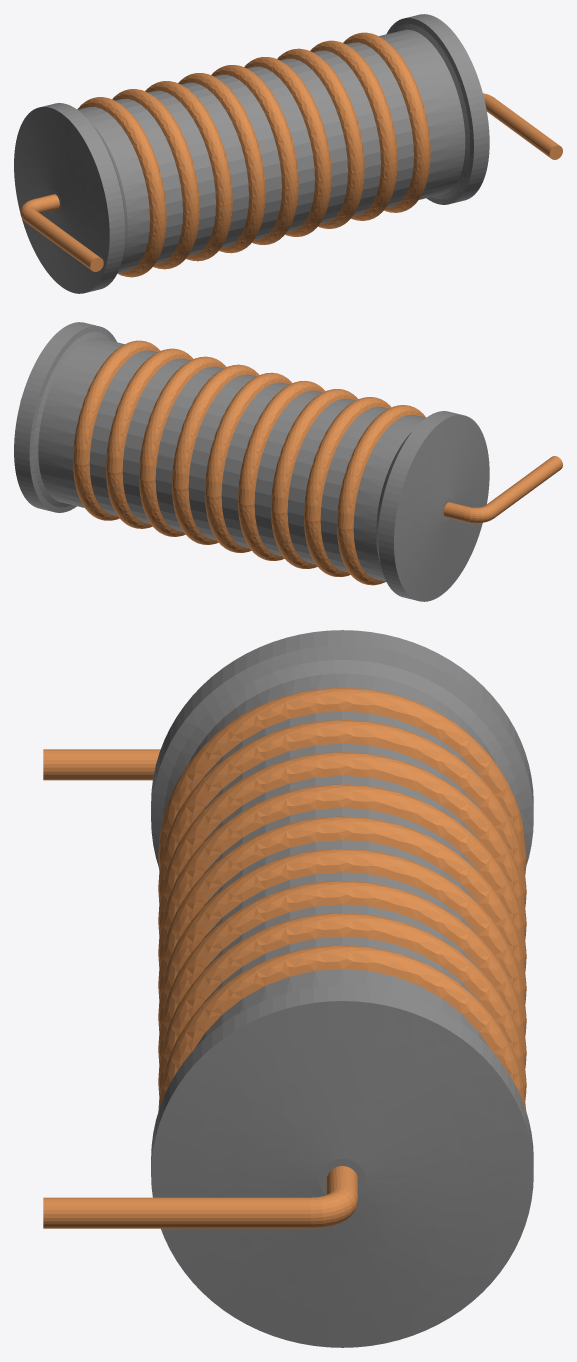
The model's file is L_Axial_L26.0mm_D11.0mm_P30.48mm_Horizontal_Fastron_77A.glb.
3 views of the same model, one above another, from view 1: azimuth 30°, elevation 25°; view 2: azimuth 150°, elevation 25°; view 3: azimuth 270°, elevation 25° (orthographic). The views are drawn at different scales.
Parts seen in each view (by area): view 1: Shape_IndexedFaceSet.029, Shape_IndexedFaceSet.008, Shape_IndexedFaceSet.026, Shape_IndexedFaceSet.025, Shape_IndexedFaceSet.009, Shape_IndexedFaceSet.013, Shape_IndexedFaceSet.011, Shape_IndexedFaceSet.015, Shape_IndexedFaceSet.017, Shape_IndexedFaceSet.023, Shape_IndexedFaceSet.019, Shape_IndexedFaceSet.021 (+14 smaller); view 2: Shape_IndexedFaceSet.029, Shape_IndexedFaceSet.008, Shape_IndexedFaceSet.026, Shape_IndexedFaceSet.009, Shape_IndexedFaceSet.025, Shape_IndexedFaceSet.011, Shape_IndexedFaceSet.015, Shape_IndexedFaceSet.013, Shape_IndexedFaceSet.017, Shape_IndexedFaceSet.019, Shape_IndexedFaceSet.021, Shape_IndexedFaceSet.023 (+14 smaller); view 3: Shape_IndexedFaceSet.005, Shape_IndexedFaceSet.027, Shape_IndexedFaceSet.019, Shape_IndexedFaceSet.017, Shape_IndexedFaceSet.011, Shape_IndexedFaceSet.021, Shape_IndexedFaceSet.023, Shape_IndexedFaceSet.013, Shape_IndexedFaceSet.025, Shape_IndexedFaceSet.015, Shape_IndexedFaceSet.009, Shape_IndexedFaceSet (+14 smaller).
Boxes of the visible parts, bbox=[...] form: Shape_IndexedFaceSet.029: bbox=[14, 107, 109, 293]; Shape_IndexedFaceSet.008: bbox=[379, 29, 465, 199]; Shape_IndexedFaceSet.026: bbox=[78, 107, 149, 273]; Shape_IndexedFaceSet.025: bbox=[77, 97, 166, 277]; Shape_IndexedFaceSet.009: bbox=[343, 32, 430, 212]; Shape_IndexedFaceSet.013: bbox=[277, 48, 364, 228]; Shape_IndexedFaceSet.011: bbox=[310, 40, 397, 220]; Shape_IndexedFaceSet.015: bbox=[244, 57, 331, 236]; Shape_IndexedFaceSet.017: bbox=[211, 65, 298, 244]; Shape_IndexedFaceSet.023: bbox=[112, 89, 199, 269]; Shape_IndexedFaceSet.019: bbox=[178, 73, 265, 253]; Shape_IndexedFaceSet.021: bbox=[145, 81, 232, 261]; Shape_IndexedFaceSet.029: bbox=[394, 415, 489, 601]; Shape_IndexedFaceSet.008: bbox=[38, 337, 124, 507]; Shape_IndexedFaceSet.026: bbox=[353, 415, 425, 581]; Shape_IndexedFaceSet.009: bbox=[73, 340, 160, 520]; Shape_IndexedFaceSet.025: bbox=[337, 405, 425, 585]; Shape_IndexedFaceSet.011: bbox=[106, 348, 193, 528]; Shape_IndexedFaceSet.015: bbox=[172, 364, 259, 544]; Shape_IndexedFaceSet.013: bbox=[139, 356, 226, 536]; Shape_IndexedFaceSet.017: bbox=[205, 372, 292, 552]; Shape_IndexedFaceSet.019: bbox=[238, 381, 325, 560]; Shape_IndexedFaceSet.021: bbox=[271, 389, 358, 568]; Shape_IndexedFaceSet.023: bbox=[304, 397, 391, 576]; Shape_IndexedFaceSet.005: bbox=[151, 1001, 533, 1347]; Shape_IndexedFaceSet.027: bbox=[151, 645, 533, 867]; Shape_IndexedFaceSet.019: bbox=[158, 784, 526, 971]; Shape_IndexedFaceSet.017: bbox=[158, 816, 526, 1003]; Shape_IndexedFaceSet.011: bbox=[158, 913, 526, 1099]; Shape_IndexedFaceSet.021: bbox=[158, 752, 526, 938]; Shape_IndexedFaceSet.023: bbox=[158, 720, 526, 906]; Shape_IndexedFaceSet.013: bbox=[158, 881, 526, 1067]; Shape_IndexedFaceSet.025: bbox=[158, 688, 526, 874]; Shape_IndexedFaceSet.015: bbox=[158, 849, 526, 1035]; Shape_IndexedFaceSet.009: bbox=[158, 945, 526, 1111]; Shape_IndexedFaceSet: bbox=[43, 1197, 310, 1228].
Bounding box in the file's own units: 12.35 × 4.33 × 5.55.
